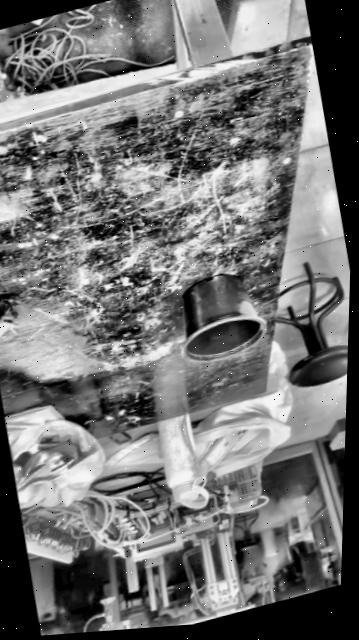pot: (170, 264, 269, 368)
